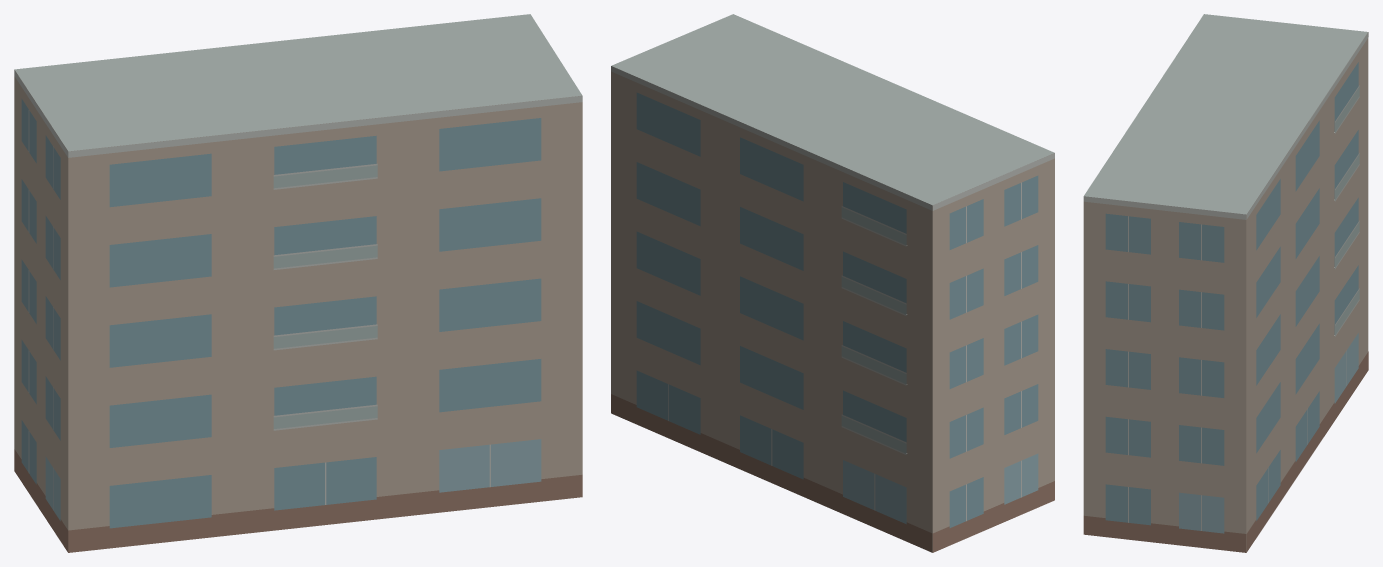
File: survey-upis-32871923.glb
3 renders of one model, left to right at view 1: azimuth 30°, elevation 25°; view 2: azimuth 150°, elevation 25°; view 3: azimuth 270°, elevation 25°, orthographic. The views are drawn at different scales.
Parts seen in each view (by area): view 1: survey-upis-32871923.tmp; view 2: survey-upis-32871923.tmp; view 3: survey-upis-32871923.tmp.
Boxes of the visible parts, bbox=[...] form: survey-upis-32871923.tmp: bbox=[14, 14, 582, 552]; survey-upis-32871923.tmp: bbox=[611, 14, 1054, 552]; survey-upis-32871923.tmp: bbox=[1083, 14, 1368, 552].
Bounding box in the file's own units: 19.2 × 15.1 × 11.53.
